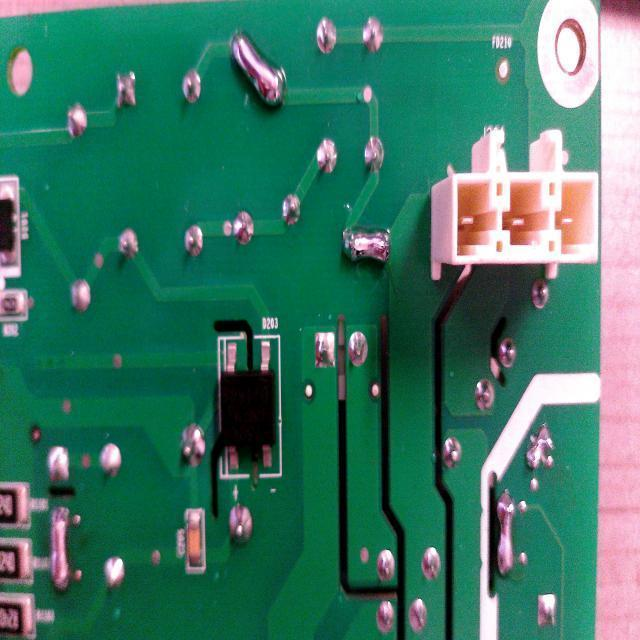Soldering shorted: (230, 24, 282, 120), (338, 218, 402, 284), (492, 485, 520, 587), (46, 502, 72, 600), (520, 420, 555, 480)
